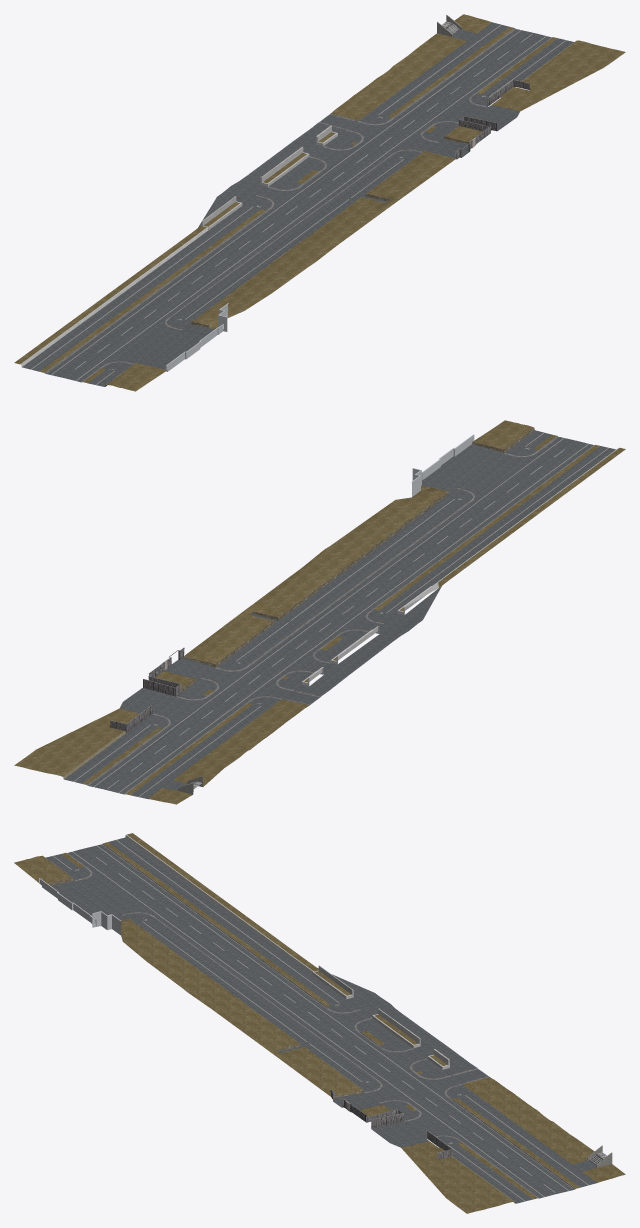
The model's file is zimCreateArchive_Area08_Ground.fbx.
3 renders of one model, top to bottom at view 1: azimuth 30°, elevation 25°; view 2: azimuth 210°, elevation 25°; view 3: azimuth 270°, elevation 25°, orthographic.
Parts seen in each view (by area): view 1: Ground-Road, Ground-Grass1, Ground-Path-DarkGrey, Ground-Kerb, Ground-RoadMark, Ground-Wall-Bricks12, Ground-Wall-Brick4, Ground-Wall-Snow1, Ground-Wall-Limestone; view 2: Ground-Road, Ground-Grass1, Ground-Path-DarkGrey, Ground-RoadMark, Ground-Kerb, Ground-Wall-Limestone, Ground-Wall-Brick4, Ground-Wall-Bricks12, Ground-Wall-Snow1; view 3: Ground-Road, Ground-Grass1, Ground-Path-DarkGrey, Ground-Kerb, Ground-RoadMark, Ground-Wall-Bricks12, Ground-Wall-Brick4, Ground-Wall-Snow1, Ground-Wall-Limestone.
Boxes of the visible parts, x1,y1,x2,y2 form: Ground-Road: (46,29,550,382); Ground-Grass1: (14,14,625,391); Ground-Path-DarkGrey: (22,22,573,386); Ground-Kerb: (44,28,552,382); Ground-RoadMark: (31,24,566,384); Ground-Wall-Bricks12: (20,125,337,366); Ground-Wall-Brick4: (455,79,530,159); Ground-Wall-Snow1: (165,303,228,371); Ground-Wall-Limestone: (105,126,468,386); Ground-Road: (89,437,593,794); Ground-Grass1: (14,420,625,804); Ground-Path-DarkGrey: (64,430,615,798); Ground-RoadMark: (73,433,608,796); Ground-Kerb: (87,436,595,794); Ground-Wall-Limestone: (164,427,534,692); Ground-Wall-Brick4: (109,647,184,733); Ground-Wall-Bricks12: (302,447,619,685); Ground-Wall-Snow1: (411,434,474,496); Ground-Road: (50,844,573,1198); Ground-Grass1: (14,833,625,1213); Ground-Path-DarkGrey: (46,837,596,1203); Ground-Kerb: (66,843,575,1198); Ground-RoadMark: (53,840,588,1200); Ground-Wall-Bricks12: (125,834,449,1069); Ground-Wall-Brick4: (330,1089,453,1159); Ground-Wall-Snow1: (39,878,120,935); Ground-Wall-Limestone: (42,855,391,1110).
Size of the model in its own units: 190 by 130 by 4.42.
Materials: 12 (12 with a texture image).
